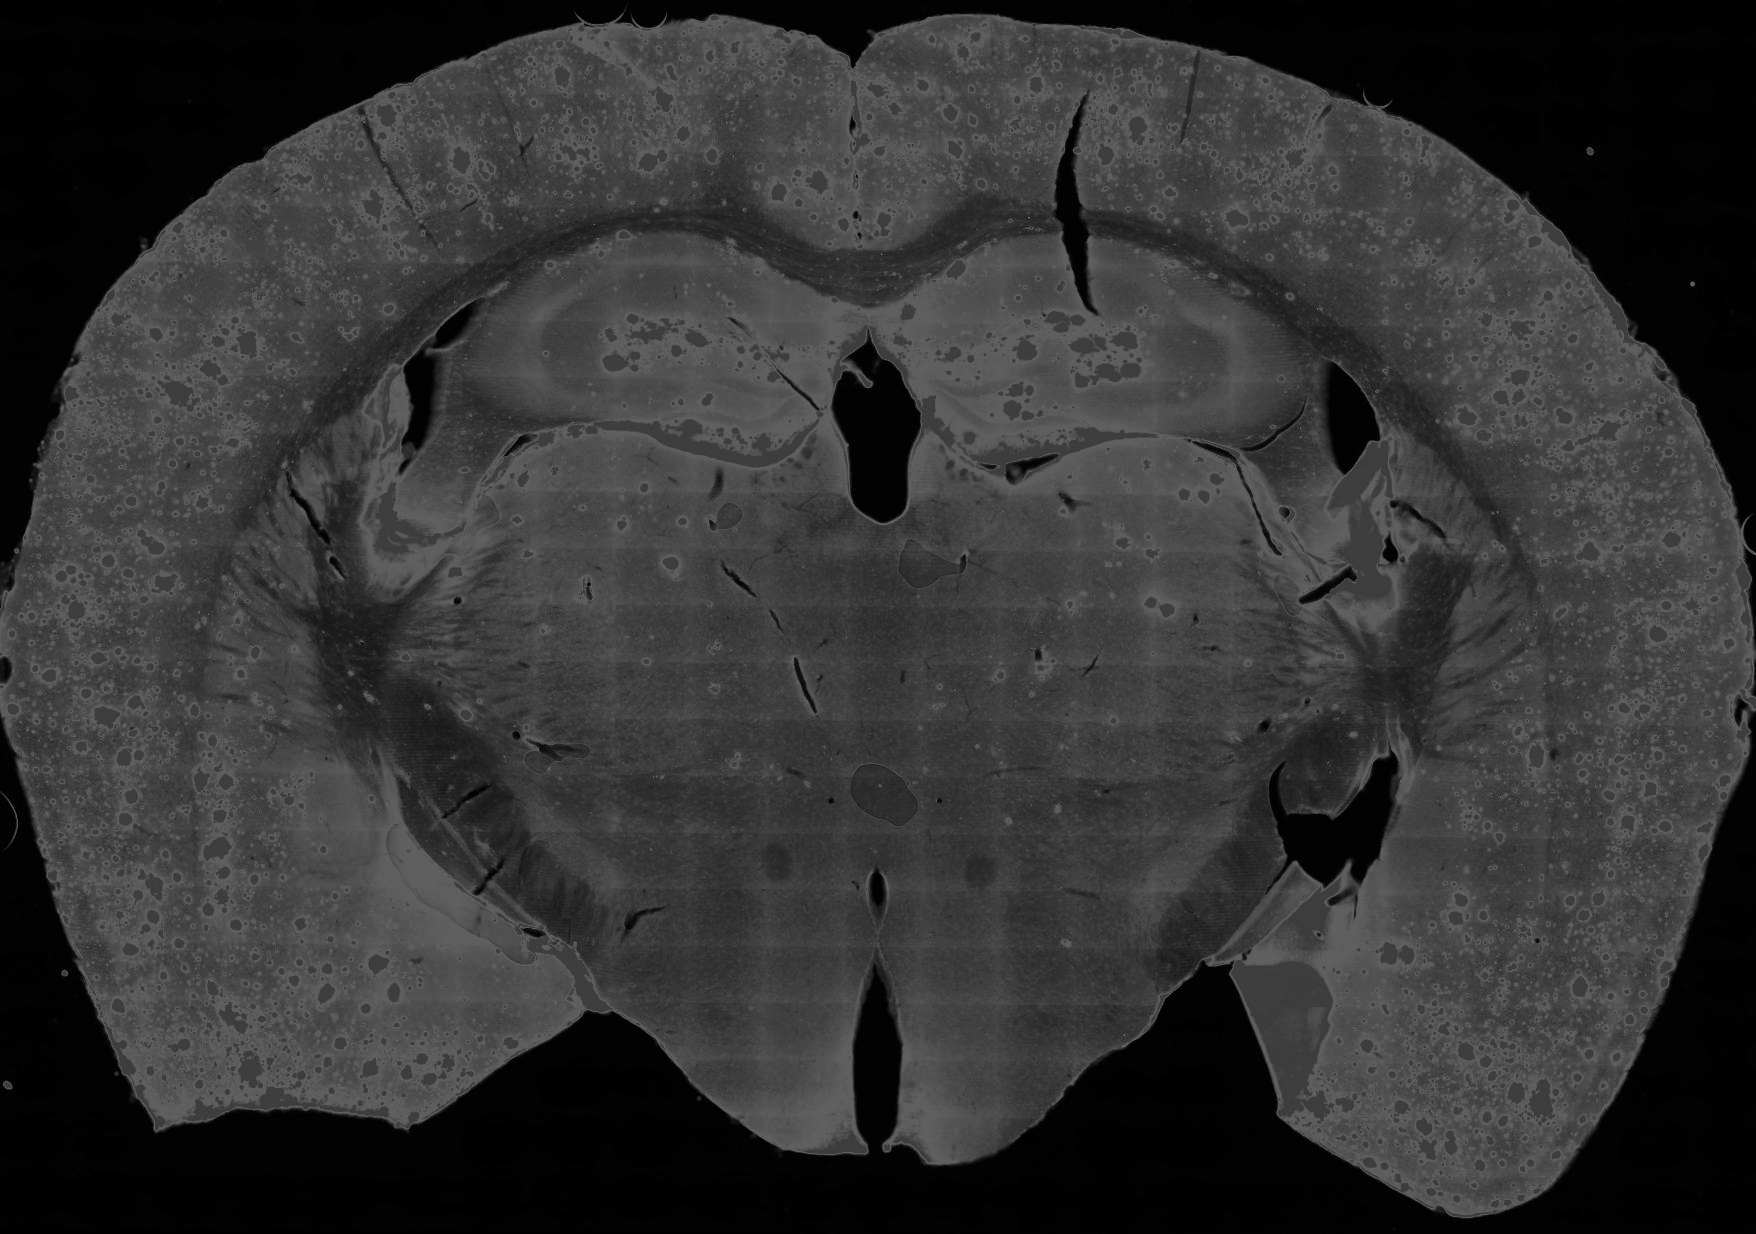Cerebral nuclei: (1367, 419, 1550, 905), (200, 405, 377, 876)
Hippocampal formation: (865, 234, 1305, 463), (453, 230, 868, 457)
Hypothalamus: (875, 721, 1318, 1165), (485, 725, 881, 1159)
Retrosplenial area: (851, 20, 972, 255), (742, 23, 860, 256)
Somatosensory area: (1164, 44, 1681, 467), (84, 41, 600, 422)
Thalamus: (421, 411, 883, 785), (881, 427, 1363, 784)
